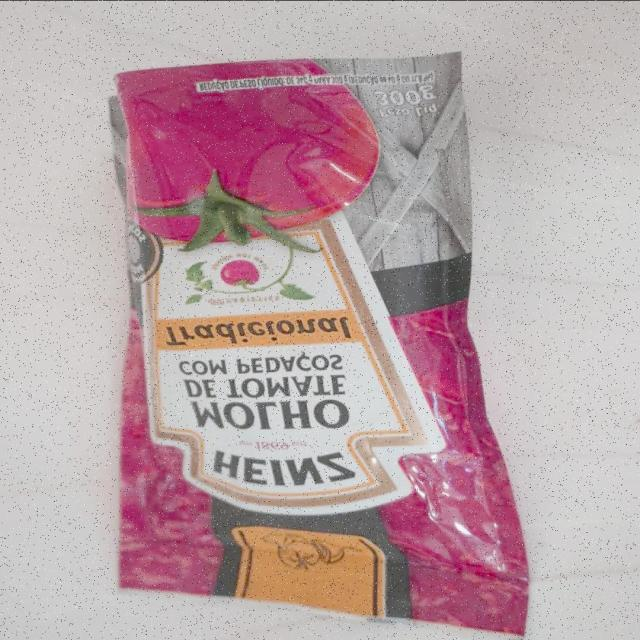TomatoSauce: (116, 51, 533, 638)
